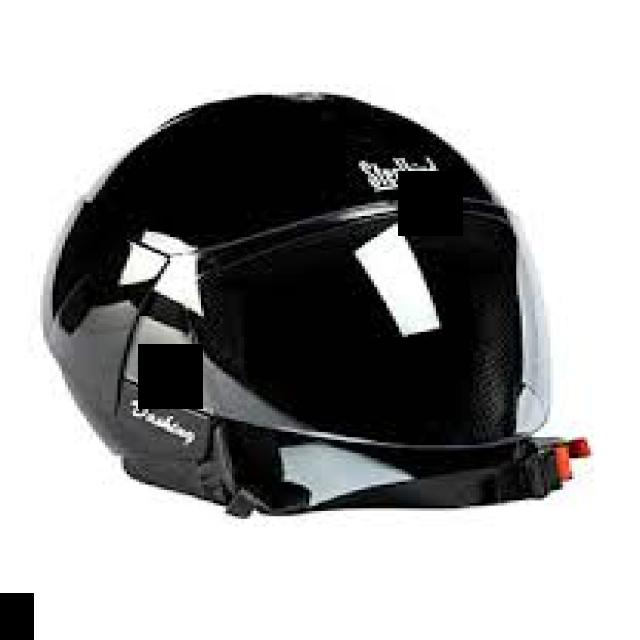Helmet: (45, 95, 588, 516)
